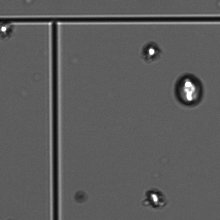Living Cell: (172, 72, 206, 107), (144, 188, 167, 209), (141, 41, 162, 62), (1, 19, 14, 39)
